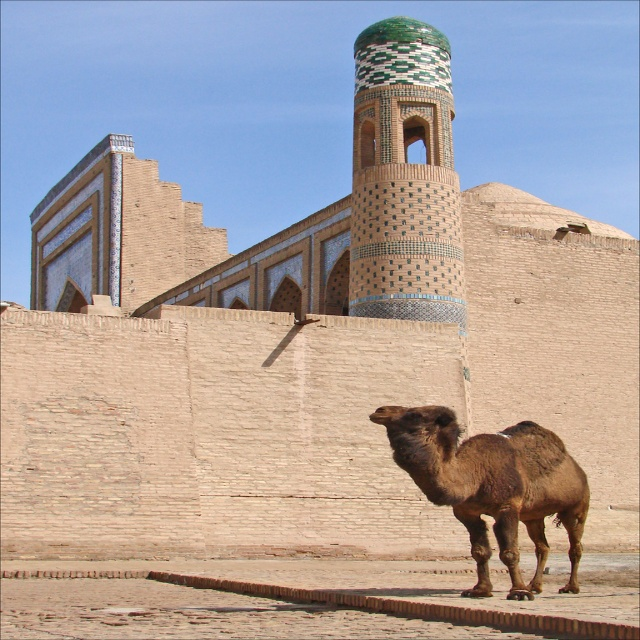Camel: (369, 402, 590, 604)
